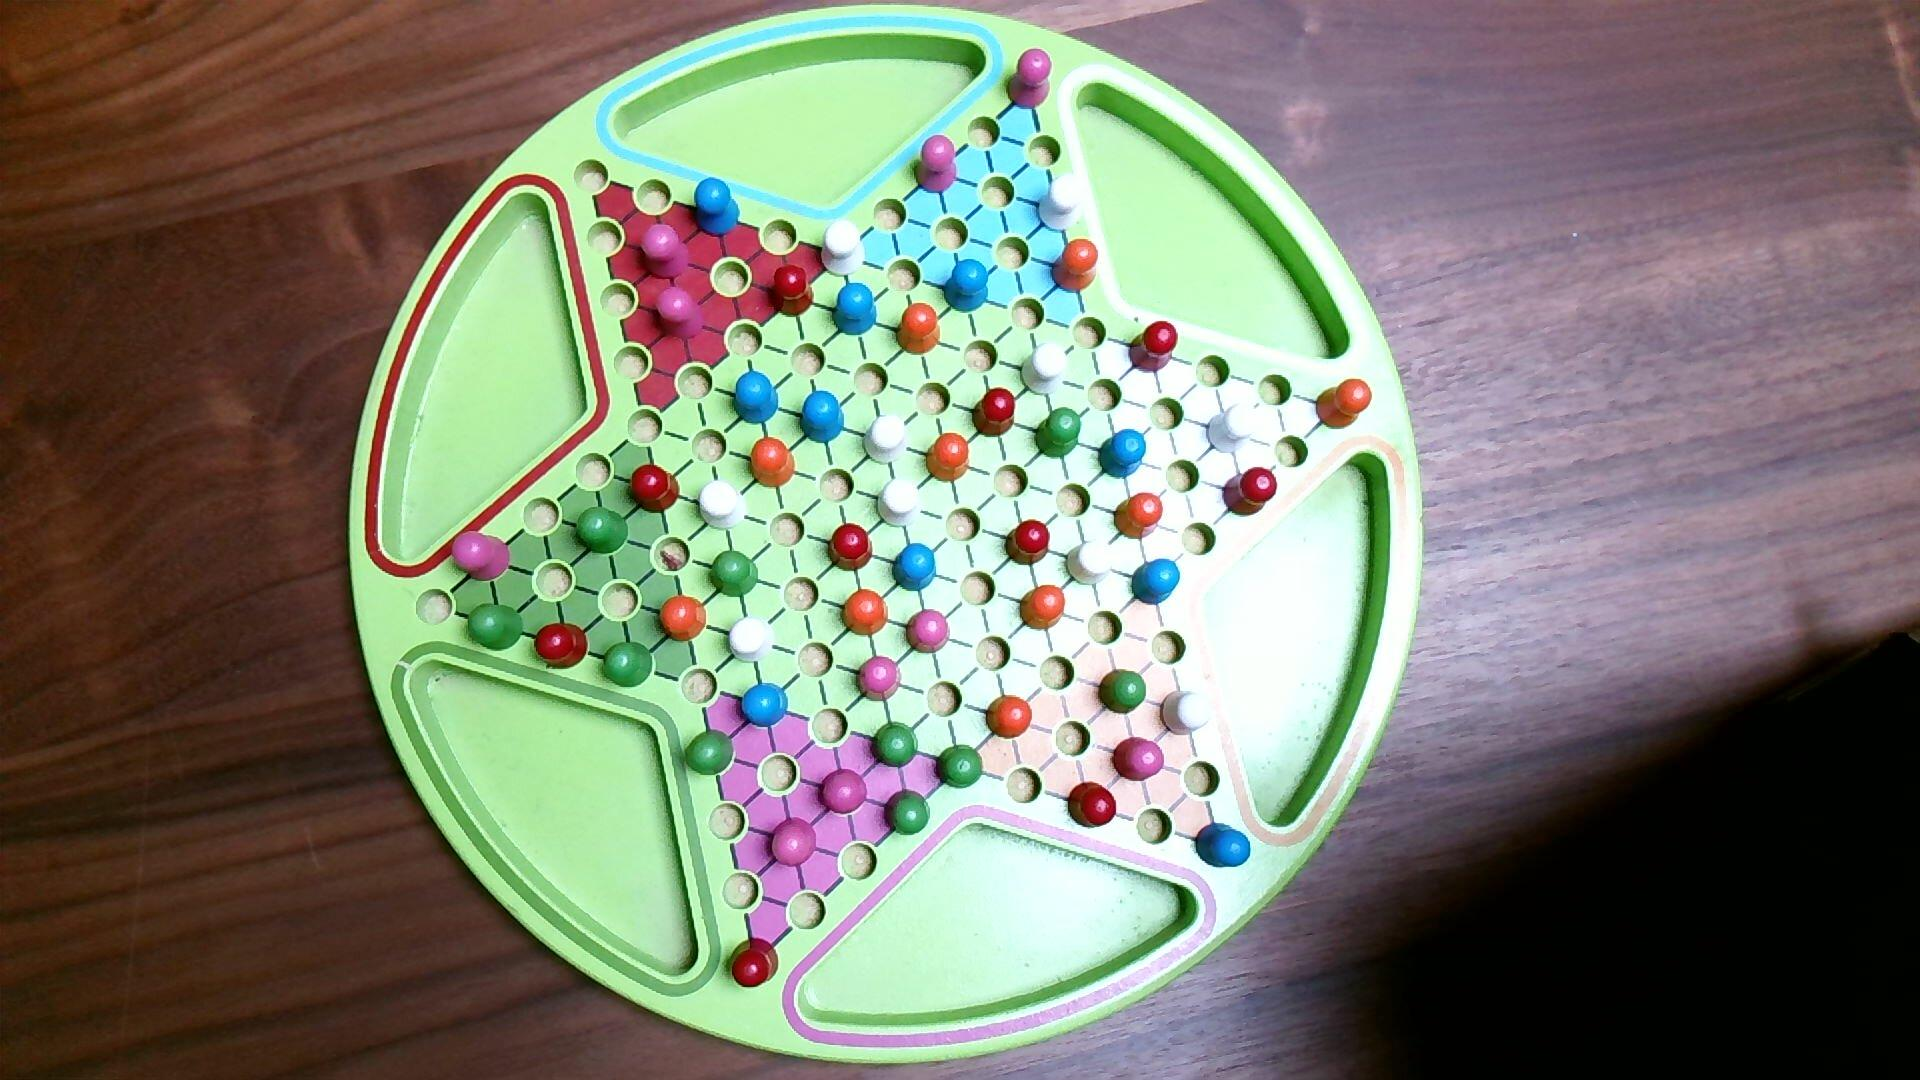B: (691, 177, 742, 240), (1193, 822, 1253, 872), (731, 371, 781, 429), (829, 282, 880, 339), (943, 258, 992, 316), (1096, 429, 1149, 481), (1130, 558, 1182, 611), (798, 390, 847, 446), (738, 680, 790, 731), (891, 542, 939, 593)
G: (465, 603, 525, 653), (574, 506, 632, 556), (707, 549, 761, 600), (600, 641, 655, 691), (1033, 406, 1083, 462), (683, 728, 737, 778), (870, 719, 920, 770), (934, 742, 986, 791), (1096, 669, 1149, 717), (882, 789, 934, 837)
O: (1313, 377, 1374, 433), (1048, 236, 1101, 295), (748, 436, 798, 491), (1113, 491, 1164, 542), (894, 302, 942, 357), (658, 593, 709, 644), (840, 588, 890, 638), (984, 694, 1035, 742), (924, 433, 972, 485), (1018, 584, 1067, 632)
R: (1220, 464, 1280, 520), (531, 621, 591, 673), (725, 936, 781, 990), (1127, 320, 1180, 375), (629, 463, 682, 516), (1065, 781, 1120, 831), (769, 262, 816, 319), (971, 386, 1021, 439), (827, 521, 876, 574), (1004, 518, 1052, 568)
R2: (450, 530, 512, 584), (1005, 47, 1054, 112), (640, 223, 692, 281), (653, 285, 705, 342), (911, 135, 959, 196), (1110, 735, 1167, 785), (766, 816, 819, 869), (816, 767, 869, 818), (855, 655, 905, 704), (905, 607, 953, 655)
W: (1036, 174, 1088, 233), (1207, 401, 1261, 456), (819, 218, 866, 280), (698, 479, 749, 533), (1021, 342, 1069, 398), (1160, 688, 1213, 738), (861, 413, 909, 467), (877, 477, 924, 531), (1065, 538, 1116, 588), (728, 615, 777, 666)
